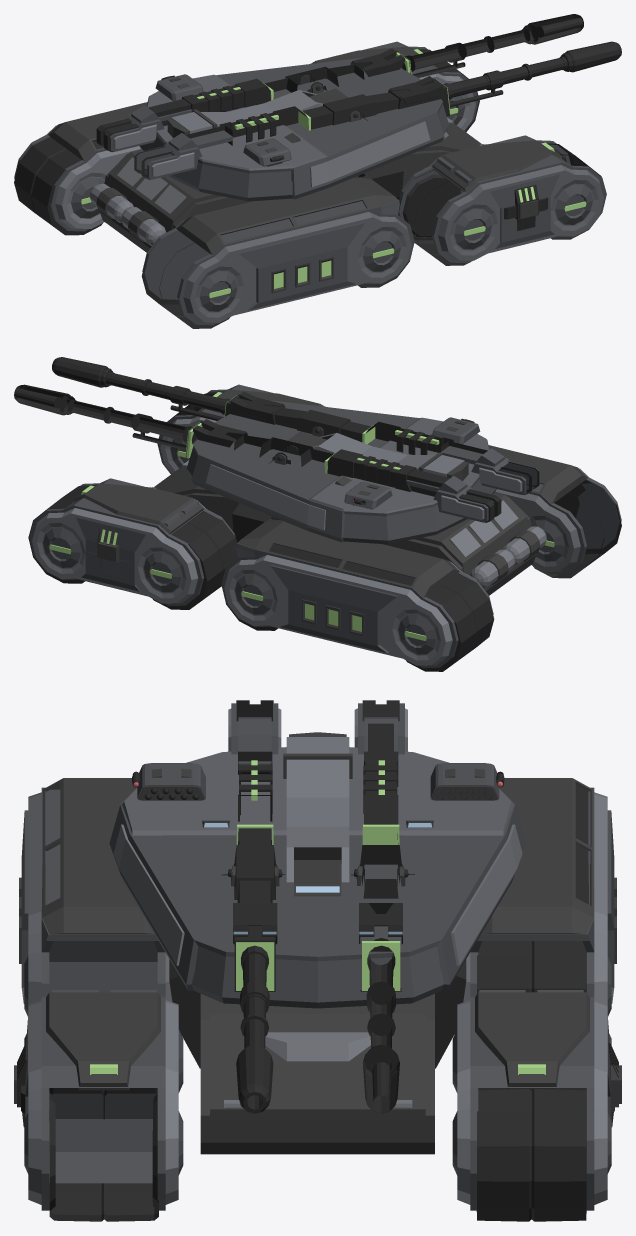
Rendered from Heavy_Tank.fbx.
3 views of the same model, one above another, from view 1: azimuth 30°, elevation 25°; view 2: azimuth 150°, elevation 25°; view 3: azimuth 270°, elevation 25° (orthographic). The views are drawn at different scales.
Parts seen in each view (by area): view 1: Cylinder.100, Cylinder.060, Back_Right_Leg, Cylinder.072, Cylinder.043, Cube, Main_Body, Head, Cylinder.104, Cylinder.076, Cylinder.093, Wheel_2 (+46 smaller); view 2: Cylinder.100, Cylinder.089, Cylinder.095, Cylinder.005, Cube.060, Main_Body, Head, Cylinder.085, Cylinder.093, Cylinder.104, Wheel_6, Back_Right_Leg (+45 smaller); view 3: Cylinder.100, Main_Body, Wheel_5, Cylinder.104, Front_Right_Leg, Cylinder.095, Cylinder.072, Back_Right_Leg, Cylinder.076, Head, Cylinder.085, Cube.003 (+39 smaller).
Part boxes in pixels (left/top/right/bottom): Cylinder.100: left=156, top=57, right=444, bottom=199; Cylinder.060: left=183, top=212, right=411, bottom=322; Back_Right_Leg: left=142, top=176, right=414, bottom=325; Cylinder.072: left=176, top=176, right=398, bottom=254; Cylinder.043: left=437, top=165, right=603, bottom=260; Cube: left=238, top=222, right=364, bottom=310; Main_Body: left=99, top=122, right=481, bottom=252; Head: left=139, top=104, right=449, bottom=201; Cylinder.104: left=146, top=74, right=327, bottom=170; Cylinder.076: left=432, top=140, right=561, bottom=191; Cylinder.093: left=14, top=137, right=102, bottom=235; Wheel_2: left=398, top=169, right=472, bottom=265; Cylinder.100: left=191, top=400, right=479, bottom=542; Cylinder.089: left=224, top=555, right=452, bottom=665; Cylinder.095: left=238, top=519, right=459, bottom=597; Cylinder.005: left=32, top=508, right=198, bottom=603; Cube.060: left=271, top=565, right=397, bottom=653; Main_Body: left=154, top=465, right=536, bottom=595; Head: left=187, top=447, right=496, bottom=544; Cylinder.085: left=74, top=483, right=203, bottom=534; Cylinder.093: left=406, top=574, right=494, bottom=671; Cylinder.104: left=308, top=417, right=489, bottom=513; Wheel_6: left=153, top=512, right=237, bottom=609; Back_Right_Leg: left=529, top=466, right=621, bottom=574; Cylinder.100: left=109, top=787, right=526, bottom=990; Main_Body: left=200, top=994, right=434, bottom=1154; Wheel_5: left=476, top=1088, right=586, bottom=1221; Cylinder.104: left=121, top=747, right=513, bottom=835; Front_Right_Leg: left=41, top=995, right=165, bottom=1210; Cylinder.095: left=481, top=778, right=594, bottom=934; Cylinder.072: left=41, top=778, right=154, bottom=934; Back_Right_Leg: left=41, top=787, right=165, bottom=995; Cylinder.076: left=46, top=992, right=160, bottom=1090; Head: left=191, top=946, right=443, bottom=1008; Cylinder.085: left=475, top=992, right=589, bottom=1090; Cube.003: left=286, top=737, right=349, bottom=882.
Bounding box in the file's own units: 1139 × 299 × 709.
